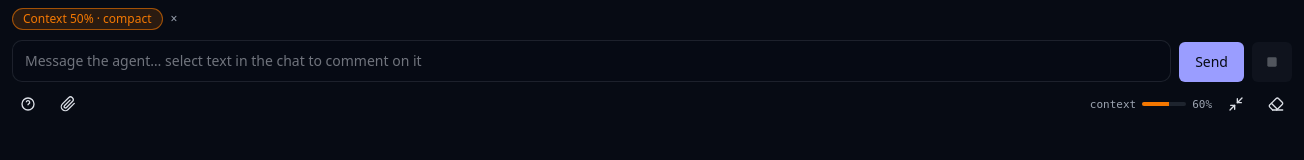
Test: a compaction lowers what was dismissed: the climb after it reminds again
The image size is (1304, 160).
Click the button named "Remind me at the next step" at (174, 19), box [166,11,181,27]
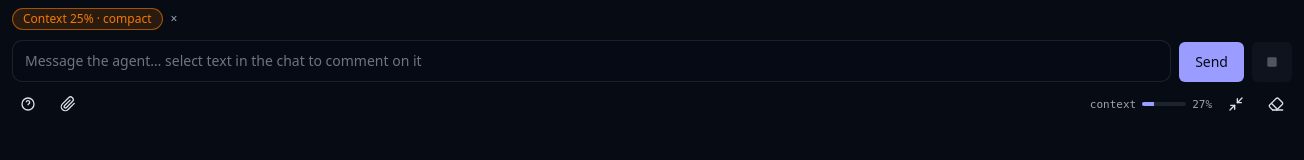
expect the element with test id "ctx-nudge" shows "Context 25%": met, box [12,8,162,30]
